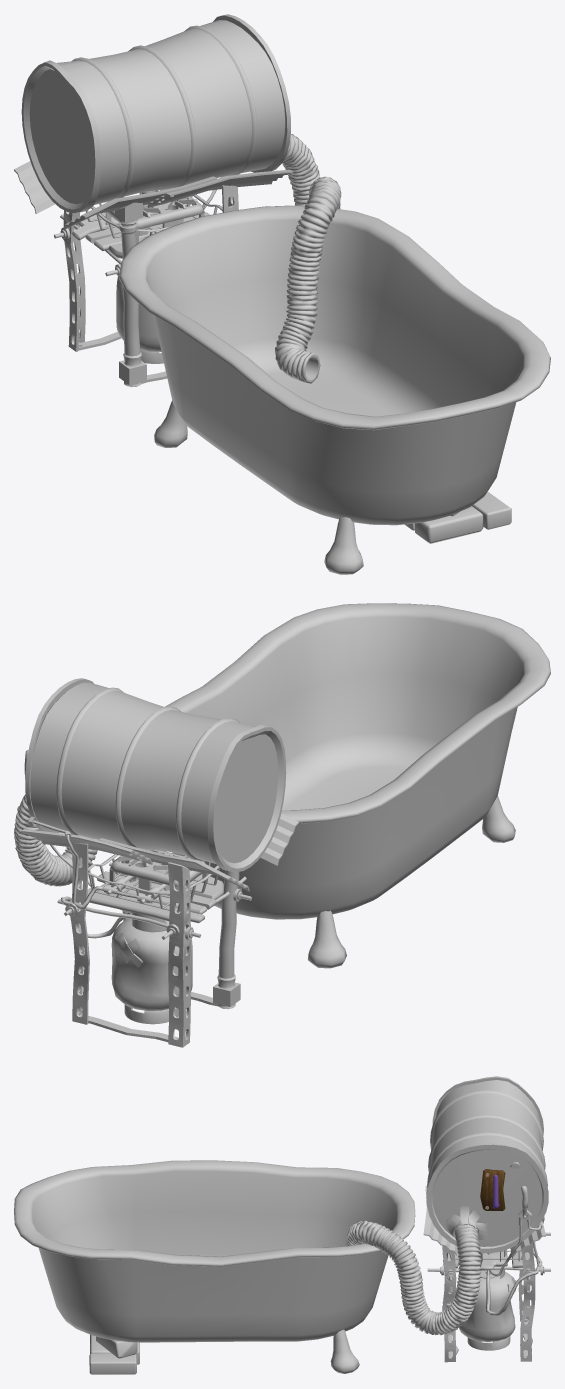
File: Gestation Bath.fbx
3 renders of one model, top to bottom at view 1: azimuth 30°, elevation 25°; view 2: azimuth 150°, elevation 25°; view 3: azimuth 270°, elevation 25°, orthographic. The views are drawn at different scales.
Parts seen in each view (by area): view 1: Gestation Bath; view 2: Gestation Bath; view 3: Gestation Bath, Thermometer.
Boxes of the visible parts, left/top/right/bottom form: Gestation Bath: left=14, top=14, right=550, bottom=574; Gestation Bath: left=14, top=603, right=550, bottom=1047; Gestation Bath: left=14, top=1076, right=550, bottom=1374; Thermometer: left=480, top=1169, right=505, bottom=1210.
Bounding box in the file's own units: 122 × 125 × 262.
